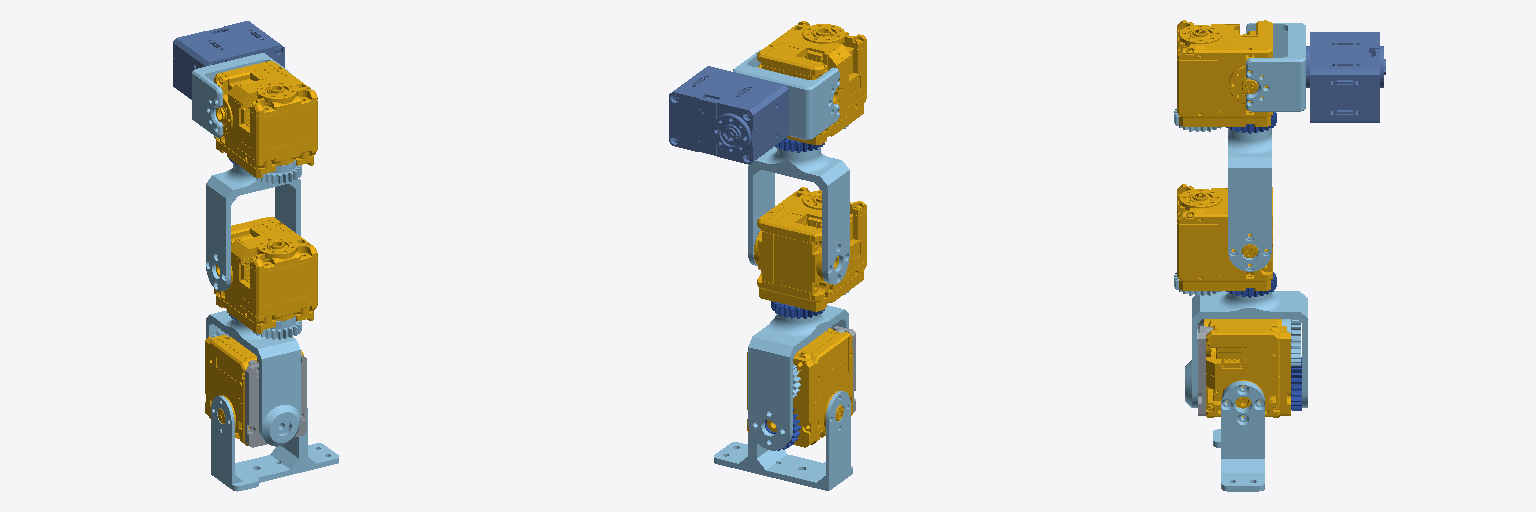
--- What the picture shows (computed from the rendered views, not written in the file) ---
The picture shows the robot from 3 angles, left to right: view 1: azimuth 30°, elevation 25°; view 2: azimuth 150°, elevation 25°; view 3: azimuth 270°, elevation 25°; orthographic projection.
Robot: right_arm — 16 links, 15 joints (10 revolute, 5 fixed); root link xc430; default pose: every joint at zero.
Links seen in each view (by area): view 1: 2xl430_gears, 2xl430_gears_2, elb_yaw_link, gripper_connector, sho_yaw_link, xc430, 2xl430_gears_3, sho_pitch_link, wrist_bearing_plate, spur_1m_24t_drive_2, spur_1m_24t_drive; view 2: xc430, 2xl430_gears_2, elb_yaw_link, sho_yaw_link, 2xl430_gears, gripper_connector, 2xl430_gears_3, sho_pitch_link; view 3: 2xl430_gears, 2xl430_gears_3, xc430, 2xl430_gears_2, sho_yaw_link, gripper_connector, elb_yaw_link, sho_pitch_link, wrist_bearing_plate, spur_1m_24t_drive_3.
Boxes of the visible links, bbox=[...] form: 2xl430_gears: bbox=[214, 61, 317, 177]; 2xl430_gears_2: bbox=[214, 217, 317, 333]; elb_yaw_link: bbox=[206, 310, 300, 446]; gripper_connector: bbox=[211, 395, 338, 491]; sho_yaw_link: bbox=[206, 163, 300, 290]; xc430: bbox=[173, 21, 284, 99]; 2xl430_gears_3: bbox=[205, 335, 303, 445]; sho_pitch_link: bbox=[192, 53, 290, 137]; wrist_bearing_plate: bbox=[245, 354, 306, 447]; spur_1m_24t_drive_2: bbox=[253, 316, 301, 339]; spur_1m_24t_drive: bbox=[253, 160, 301, 183]; xc430: bbox=[669, 66, 788, 164]; 2xl430_gears_2: bbox=[754, 187, 866, 311]; elb_yaw_link: bbox=[748, 305, 848, 450]; sho_yaw_link: bbox=[748, 146, 849, 284]; 2xl430_gears: bbox=[757, 21, 866, 144]; gripper_connector: bbox=[714, 391, 852, 490]; 2xl430_gears_3: bbox=[747, 328, 852, 447]; sho_pitch_link: bbox=[733, 50, 839, 139]; 2xl430_gears: bbox=[1177, 20, 1272, 126]; 2xl430_gears_3: bbox=[1204, 319, 1290, 417]; xc430: bbox=[1306, 32, 1385, 122]; 2xl430_gears_2: bbox=[1177, 184, 1272, 290]; sho_yaw_link: bbox=[1228, 128, 1271, 271]; gripper_connector: bbox=[1213, 381, 1264, 491]; elb_yaw_link: bbox=[1185, 291, 1307, 407]; sho_pitch_link: bbox=[1246, 23, 1305, 111]; wrist_bearing_plate: bbox=[1198, 319, 1212, 415]; spur_1m_24t_drive_3: bbox=[1282, 319, 1300, 365].
Size in the robot's own frame: 0.066 by 0.1029 by 0.2252 metres.
Meshes: 16 distinct files referenced, 15 mesh visuals loaded (15 binary STL); not drawn: 1 (reference not matched to a file when rendering).

The robot description file, URDF, robot "right_arm":
<?xml version="1.0" ?><robot name="right_arm">  
  <link name="xc430">    
    <visual>      
      <origin xyz="0 0 0" rpy="0 -0 0"/>      
      <geometry>        
        <mesh filename="package:///meshes/right_xc430_visual.stl"/>        
      </geometry>      
      <material name="xc430_material">        
        <color rgba="0.3960334863748344314 0.50878377002232877402 0.71126755432153676573 1.0"/>        
      </material>      
    </visual>    
    <collision>      
      <origin xyz="0 0 0" rpy="0 -0 0"/>      
      <geometry>        
        <mesh filename="package:///meshes/right_xc430_collision.stl"/>        
      </geometry>      
    </collision>    
    <inertial>      
      <origin xyz="0.0076499389484204925391 0.0056800345415021621584 -0.01424421865606324486" rpy="0 0 0"/>      
      <mass value="0.065021926915724281848"/>      
      <inertia ixx="1.0685477757330492888e-05" ixy="-2.4991048729880297431e-08" ixz="4.3793050176100700611e-09" iyy="1.6030858372951945059e-05" iyz="-9.5846760479532437472e-09" izz="1.8186829094811067043e-05"/>      
    </inertial>    
  </link>  

  <link name="sho_pitch_link">    
    <visual>      
      <origin xyz="0 0 0" rpy="0 -0 0"/>      
      <geometry>        
        <mesh filename="package:///meshes/right_sho_pitch_link_visual.stl"/>        
      </geometry>      
      <material name="sho_pitch_link_material">        
        <color rgba="0.61568627450980395466 0.81176470588235294379 0.92941176470588238168 1.0"/>        
      </material>      
    </visual>    
    <collision>      
      <origin xyz="0 0 0" rpy="0 -0 0"/>      
      <geometry>        
        <mesh filename="package:///meshes/right_sho_pitch_link_collision.stl"/>        
      </geometry>      
    </collision>    
    <inertial>      
      <origin xyz="5.8254248120052071971e-11 -5.126464256112087765e-05 0.0082440788127094884186" rpy="0 0 0"/>      
      <mass value="0.0054658167229830727923"/>      
      <inertia ixx="7.8001571192438926207e-07" ixy="-1.3620017154980032855e-14" ixz="-5.4561052933656508776e-15" iyy="1.8499441886712505873e-06" iyz="4.7427934912491390431e-09" izz="1.9577243674425458058e-06"/>      
    </inertial>    
  </link>  

  <link name="2xl430_gears">    
    <visual>      
      <origin xyz="0 0 0" rpy="0 -0 0"/>      
      <geometry>        
        <mesh filename="package:///meshes/right_2xl430_gears_visual.stl"/>        
      </geometry>      
      <material name="2xl430_gears_material">        
        <color rgba="0.92986371788500021829 0.70481290401000895596 0.1039417481935485249 1.0"/>        
      </material>      
    </visual>    
    <collision>      
      <origin xyz="0 0 0" rpy="0 -0 0"/>      
      <geometry>        
        <mesh filename="package:///meshes/right_2xl430_gears_collision.stl"/>        
      </geometry>      
    </collision>    
    <inertial>      
      <origin xyz="-0.011690990429498037892 -0.0018640254999328701151 -0.018537112917885786162" rpy="0 0 0"/>      
      <mass value="0.10501969455283197141"/>      
      <inertia ixx="2.3730855574652044346e-05" ixy="6.3698299422666266668e-07" ixz="-2.6196591647647510865e-08" iyy="2.9185546824401046326e-05" iyz="-5.7586555809654022393e-07" izz="3.1247581181373298292e-05"/>      
    </inertial>    
  </link>  

  <link name="spur_1m_24t_drive">    
    <visual>      
      <origin xyz="0 0 0" rpy="0 -0 0"/>      
      <geometry>        
        <mesh filename="package:///meshes/right_spur_1m_24t_drive_visual.stl"/>        
      </geometry>      
      <material name="spur_1m_24t_drive_material">        
        <color rgba="0.61568627450980395466 0.81176470588235294379 0.92941176470588238168 1.0"/>        
      </material>      
    </visual>    
    <collision>      
      <origin xyz="0 0 0" rpy="0 -0 0"/>      
      <geometry>        
        <mesh filename="package:///meshes/right_spur_1m_24t_drive_collision.stl"/>        
      </geometry>      
    </collision>    
    <inertial>      
      <origin xyz="-7.7519087863383936372e-15 -1.2066399166885885543e-16 0.004794911617840143421" rpy="0 0 0"/>      
      <mass value="0.0028390468118397902894"/>      
      <inertia ixx="1.2437980613262772114e-07" ixy="1.419737221362293343e-15" ixz="5.7551871861799213809e-36" iyy="1.2437980537166470334e-07" iyz="-5.7405905927349539414e-36" izz="2.1149940431738196475e-07"/>      
    </inertial>    
  </link>  

  <joint name="right_sho_yaw_drive" type="revolute">    
    <origin xyz="-0.024000000716145282464 -0.019000000152450020885 -0.01900000015244465712" rpy="1.5707963267947440134 8.8357678040591617298e-14 1.3333206406915990796e-13"/>    
    <parent link="2xl430_gears"/>    
    <child link="spur_1m_24t_drive"/>    
    <axis xyz="0 0 1"/>    
    <limit effort="1" velocity="20" lower="-3.141592653589793116" upper="3.141592653589793116"/>    
    <joint_properties friction="0.0"/>    
  </joint>  

  <link name="spur_1m_24t_driven">    
    <visual>      
      <origin xyz="0 0 0" rpy="0 -0 0"/>      
      <geometry>        
        <mesh filename="package:///meshes/right_spur_1m_24t_driven_visual.stl"/>        
      </geometry>      
      <material name="spur_1m_24t_driven_material">        
        <color rgba="0.23137254901960788156 0.38039215686274507888 0.7058823529411765163 1.0"/>        
      </material>      
    </visual>    
    <collision>      
      <origin xyz="0 0 0" rpy="0 -0 0"/>      
      <geometry>        
        <mesh filename="package:///meshes/right_spur_1m_24t_driven_collision.stl"/>        
      </geometry>      
    </collision>    
    <inertial>      
      <origin xyz="2.1808092620728437084e-18 -5.7993764787103834268e-15 -0.00096866348640038332785" rpy="0 0 0"/>      
      <mass value="0.0019107037020329885237"/>      
      <inertia ixx="8.5107987555388190322e-08" ixy="1.7091846252727555501e-36" ixz="6.3716770318172425148e-38" iyy="8.5107987555388057973e-08" iyz="0" izz="1.61541204276871012e-07"/>      
    </inertial>    
  </link>  

  <link name="sho_yaw_link">    
    <visual>      
      <origin xyz="0 0 0" rpy="0 -0 0"/>      
      <geometry>        
        <mesh filename="package:///meshes/right_sho_yaw_link_visual.stl"/>        
      </geometry>      
      <material name="sho_yaw_link_material">        
        <color rgba="0.61568627450980395466 0.81176470588235294379 0.92941176470588238168 1.0"/>        
      </material>      
    </visual>    
    <collision>      
      <origin xyz="0 0 0" rpy="0 -0 0"/>      
      <geometry>        
        <mesh filename="package:///meshes/right_sho_yaw_link_collision.stl"/>        
      </geometry>      
    </collision>    
    <inertial>      
      <origin xyz="-1.2954272486096673629e-18 5.5604836372706037839e-18 -0.024214576156328410095" rpy="0 0 0"/>      
      <mass value="0.012515007486099719372"/>      
      <inertia ixx="7.8103015795623802274e-06" ixy="3.1069782961625653339e-13" ixz="-1.5180179291766508191e-36" iyy="4.8995994669684958124e-06" iyz="0" izz="3.8486326781559904804e-06"/>      
    </inertial>    
  </link>  

  <link name="2xl430_gears_2">    
    <visual>      
      <origin xyz="0 0 0" rpy="0 -0 0"/>      
      <geometry>        
        <mesh filename="package:///meshes/right_2xl430_gears_2_visual.stl"/>        
      </geometry>      
      <material name="2xl430_gears_2_material">        
        <color rgba="0.92986371788500021829 0.70481290401000895596 0.1039417481935485249 1.0"/>        
      </material>      
    </visual>    
    <collision>      
      <origin xyz="0 0 0" rpy="0 -0 0"/>      
      <geometry>        
        <mesh filename="package:///meshes/right_2xl430_gears_2_collision.stl"/>        
      </geometry>      
    </collision>    
    <inertial>      
      <origin xyz="-0.011690990429495876426 -0.0018640254999284630501 -0.018537112917888672742" rpy="0 0 0"/>      
      <mass value="0.10501969455283197141"/>      
      <inertia ixx="2.3730855574650113111e-05" ixy="6.3698299422697755118e-07" ixz="-2.619659164846839167e-08" iyy="2.9185546824400958234e-05" iyz="-5.7586555809717443985e-07" izz="3.1247581181370804627e-05"/>      
    </inertial>    
  </link>  

  <link name="spur_1m_24t_drive_2">    
    <visual>      
      <origin xyz="0 0 0" rpy="0 -0 0"/>      
      <geometry>        
        <mesh filename="package:///meshes/right_spur_1m_24t_drive_2_visual.stl"/>        
      </geometry>      
      <material name="spur_1m_24t_drive_2_material">        
        <color rgba="0.61568627450980395466 0.81176470588235294379 0.92941176470588238168 1.0"/>        
      </material>      
    </visual>    
    <collision>      
      <origin xyz="0 0 0" rpy="0 -0 0"/>      
      <geometry>        
        <mesh filename="package:///meshes/right_spur_1m_24t_drive_2_collision.stl"/>        
      </geometry>      
    </collision>    
    <inertial>      
      <origin xyz="-7.7519087863383936372e-15 -1.2153135340684725898e-16 0.0047949116178401512273" rpy="0 0 0"/>      
      <mass value="0.0028390468118397902894"/>      
      <inertia ixx="1.2437980613262772114e-07" ixy="1.419737219559865687e-15" ixz="0" iyy="1.2437980537166467687e-07" iyz="0" izz="2.1149940431738185887e-07"/>      
    </inertial>    
  </link>  

  <joint name="right_elbow_yaw_drive" type="revolute">    
    <origin xyz="-0.024000000716139280321 -0.01900000015244283913 -0.019000000152453226654" rpy="1.5707963267950391106 8.1911722377649949147e-14 -2.5011968398485122495e-13"/>    
    <parent link="2xl430_gears_2"/>    
    <child link="spur_1m_24t_drive_2"/>    
    <axis xyz="0 0 1"/>    
    <limit effort="1" velocity="20" lower="-3.141592653589793116" upper="3.141592653589793116"/>    
    <joint_properties friction="0.0"/>    
  </joint>  

  <link name="spur_1m_24t_driven_2">    
    <visual>      
      <origin xyz="0 0 0" rpy="0 -0 0"/>      
      <geometry>        
        <mesh filename="package:///meshes/right_spur_1m_24t_driven_2_visual.stl"/>        
      </geometry>      
      <material name="spur_1m_24t_driven_2_material">        
        <color rgba="0.23137254901960788156 0.38039215686274507888 0.7058823529411765163 1.0"/>        
      </material>      
    </visual>    
    <collision>      
      <origin xyz="0 0 0" rpy="0 -0 0"/>      
      <geometry>        
        <mesh filename="package:///meshes/right_spur_1m_24t_driven_2_collision.stl"/>        
      </geometry>      
    </collision>    
    <inertial>      
      <origin xyz="-4.7580846418343935286e-18 -5.7985091169723950233e-15 -0.00096866348640039373619" rpy="0 0 0"/>      
      <mass value="0.0019107037020329885237"/>      
      <inertia ixx="8.5107987555388190322e-08" ixy="4.1354498048527223053e-38" ixz="-3.3569182052241067714e-38" iyy="8.5107987555388057973e-08" iyz="2.4995911158291805188e-67" izz="1.61541204276871012e-07"/>      
    </inertial>    
  </link>  

  <link name="elb_yaw_link">    
    <visual>      
      <origin xyz="0 0 0" rpy="0 -0 0"/>      
      <geometry>        
        <mesh filename="package:///meshes/right_elb_yaw_link_visual.stl"/>        
      </geometry>      
      <material name="elb_yaw_link_material">        
        <color rgba="0.61568627450980406568 0.81176470588235294379 0.92941176470588238168 1.0"/>        
      </material>      
    </visual>    
    <collision>      
      <origin xyz="0 0 0" rpy="0 -0 0"/>      
      <geometry>        
        <mesh filename="package:///meshes/right_elb_yaw_link_collision.stl"/>        
      </geometry>      
    </collision>    
    <inertial>      
      <origin xyz="5.2870889172994923869e-08 0.001987355818274245782 -0.023365661199828729327" rpy="0 0 0"/>      
      <mass value="0.014606428020591945977"/>      
      <inertia ixx="1.17667756487469936e-05" ixy="1.4106312007994768316e-12" ixz="-9.3353217587898966973e-12" iyy="5.5393998892419725165e-06" iyz="8.8305528697668221258e-07" izz="7.4785865281022784925e-06"/>      
    </inertial>    
  </link>  

  <link name="spur_1m_24t_driven_3">    
    <visual>      
      <origin xyz="0 0 0" rpy="0 -0 0"/>      
      <geometry>        
        <mesh filename="package:///meshes/right_spur_1m_24t_driven_3_visual.stl"/>        
      </geometry>      
      <material name="spur_1m_24t_driven_3_material">        
        <color rgba="0.23137254901960788156 0.38039215686274507888 0.7058823529411765163 1.0"/>        
      </material>      
    </visual>    
    <collision>      
      <origin xyz="0 0 0" rpy="0 -0 0"/>      
      <geometry>        
        <mesh filename="package:///meshes/right_spur_1m_24t_driven_3_collision.stl"/>        
      </geometry>      
    </collision>    
    <inertial>      
      <origin xyz="2.9936384877701756834e-17 -5.7993764787103834268e-15 -0.002568663486400384055" rpy="0 0 0"/>      
      <mass value="0.0019107037020329885237"/>      
      <inertia ixx="8.5107987555388190322e-08" ixy="3.3988796829323495399e-37" ixz="5.9570228602002876148e-38" iyy="8.5107987555388057973e-08" iyz="1.8709261356730929059e-36" izz="1.61541204276871012e-07"/>      
    </inertial>    
  </link>  

  <link name="2xl430_gears_3">    
    <visual>      
      <origin xyz="0 0 0" rpy="0 -0 0"/>      
      <geometry>        
        <mesh filename="package:///meshes/right_2xl430_gears_3_visual.stl"/>        
      </geometry>      
      <material name="2xl430_gears_3_material">        
        <color rgba="0.92986371788500021829 0.70481290401000895596 0.1039417481935485249 1.0"/>        
      </material>      
    </visual>    
    <collision>      
      <origin xyz="0 0 0" rpy="0 -0 0"/>      
      <geometry>        
        <mesh filename="package:///meshes/right_2xl430_gears_3_collision.stl"/>        
      </geometry>      
    </collision>    
    <inertial>      
      <origin xyz="0.00046288708211326089464 0.011690990071428479513 -0.025135974652517042299" rpy="0 0 0"/>      
      <mass value="0.10501969455283197141"/>      
      <inertia ixx="3.1247581181372647771e-05" ixy="2.6196591648307667168e-08" ixz="5.7586555809648357861e-07" iyy="2.3730855574651139715e-05" iyz="6.369829942252864499e-07" izz="2.9185546824400744782e-05"/>      
    </inertial>    
  </link>  

  <link name="spur_1m_24t_drive_3">    
    <visual>      
      <origin xyz="0 0 0" rpy="0 -0 0"/>      
      <geometry>        
        <mesh filename="package:///meshes/right_spur_1m_24t_drive_3_visual.stl"/>        
      </geometry>      
      <material name="spur_1m_24t_drive_3_material">        
        <color rgba="0.61568627450980395466 0.81176470588235294379 0.92941176470588238168 1.0"/>        
      </material>      
    </visual>    
    <collision>      
      <origin xyz="0 0 0" rpy="0 -0 0"/>      
      <geometry>        
        <mesh filename="package:///meshes/right_spur_1m_24t_drive_3_collision.stl"/>        
      </geometry>      
    </collision>    
    <inertial>      
      <origin xyz="-7.7519087863383920595e-15 -1.2153135340684725898e-16 0.0047949116178401390842" rpy="0 0 0"/>      
      <mass value="0.0028390468118397902894"/>      
      <inertia ixx="1.2437980613262772114e-07" ixy="1.4197372177857447269e-15" ixz="-1.0607281309556152377e-37" iyy="1.243798053716646504e-07" iyz="2.059668263515456912e-37" izz="2.1149940431738185887e-07"/>      
    </inertial>    
  </link>  

  <joint name="right_wrist_pitch_drive" type="revolute">    
    <origin xyz="-1.5244811749776099319e-10 0.024000000358072620665 -0.0079999999999997017941" rpy="1.5207668029396791614e-15 3.0001588934587613545e-16 -1.5707963267949434094"/>    
    <parent link="2xl430_gears_3"/>    
    <child link="spur_1m_24t_drive_3"/>    
    <axis xyz="0 0 1"/>    
    <limit effort="1" velocity="20" lower="-1.570796326794896558" upper="1.570796326794896558"/>    
    <joint_properties friction="0.0"/>    
  </joint>  

  <link name="wrist_bearing_plate">    
    <visual>      
      <origin xyz="0 0 0" rpy="0 -0 0"/>      
      <geometry>        
        <mesh filename="package:///meshes/right_wrist_bearing_plate_visual.stl"/>        
      </geometry>      
      <material name="wrist_bearing_plate_material">        
        <color rgba="0.64524122402591754799 0.68440476750126189032 0.7077786319257823866 1.0"/>        
      </material>      
    </visual>    
    <collision>      
      <origin xyz="0 0 0" rpy="0 -0 0"/>      
      <geometry>        
        <mesh filename="package:///meshes/right_wrist_bearing_plate_collision.stl"/>        
      </geometry>      
    </collision>    
    <inertial>      
      <origin xyz="-0.0077108207619254898885 -0.015499999999999984276 -0.0018560607799430997762" rpy="0 0 0"/>      
      <mass value="0.0056496574836909499093"/>      
      <inertia ixx="5.9171079900928536951e-07" ixy="7.7431732982876658391e-23" ixz="1.8301204254972843733e-08" iyy="8.216220249489040691e-07" iyz="1.4382794928935550359e-23" izz="1.3935387964192954933e-06"/>      
    </inertial>    
  </link>  

  <joint name="right_wrist_roll_fixed" type="fixed">    
    <origin xyz="0.015499999999999304265 5.6066262743570405291e-15 -0.045000000000002482459" rpy="-2.775557577058390956e-16 1.2045919817182471361e-13 -1.5707963267948994446"/>    
    <parent link="2xl430_gears_3"/>    
    <child link="wrist_bearing_plate"/>    
    <axis xyz="0 0 1"/>    
    <limit effort="1" velocity="20"/>    
    <joint_properties friction="0.0"/>    
  </joint>  

  <link name="gripper_connector">    
    <visual>      
      <origin xyz="0 0 0" rpy="0 -0 0"/>      
      <geometry>        
        <mesh filename="package:///meshes/right_gripper_connector_visual.stl"/>        
      </geometry>      
      <material name="gripper_connector_material">        
        <color rgba="0.61568627450980395466 0.81176470588235283277 0.92941176470588238168 1.0"/>        
      </material>      
    </visual>    
    <collision>      
      <origin xyz="0 0 0" rpy="0 -0 0"/>      
      <geometry>        
        <mesh filename="package:///meshes/right_gripper_connector_collision.stl"/>        
      </geometry>      
    </collision>    
    <inertial>      
      <origin xyz="-0.00020299682521053767181 0.023971521766976099793 -0.029403013850151978742" rpy="0 0 0"/>      
      <mass value="0.010749847783550764077"/>      
      <inertia ixx="5.6975779571583526668e-06" ixy="2.5156189499996462569e-08" ixz="5.1723788070378663015e-08" iyy="4.1113818885763098678e-06" iyz="2.0765009312234066418e-08" izz="2.4319826940967949828e-06"/>      
    </inertial>    
  </link>  

  <link name="gripper">    
    <visual>      
      <origin xyz="0 0 0" rpy="0 -0 0"/>      
      <geometry>        
        <mesh filename="package:///meshes/right_gripper_visual.stl"/>        
      </geometry>      
      <material name="gripper_material">        
        <color rgba="0.6457630783199683755 0.73322359874460429907 0.76035515688353960684 1.0"/>        
      </material>      
    </visual>    
    <collision>      
      <origin xyz="0 0 0" rpy="0 -0 0"/>      
      <geometry>        
        <mesh filename="package:///meshes/right_gripper_collision.stl"/>        
      </geometry>      
    </collision>    
    <inertial>      
      <origin xyz="0.005154178919315250372 0.0027762365359454387048 -0.0064249550239257871218" rpy="0 0 0"/>      
      <mass value="0.08131732839378616462"/>      
      <inertia ixx="4.330452038058195906e-05" ixy="4.8646698778625252669e-06" ixz="1.805038721517711957e-05" iyy="0.00011082035907674447981" iyz="-4.2102691126507312902e-06" izz="9.1484178053677847197e-05"/>      
    </inertial>    
  </link>  

  <joint name="right_gripper" type="fixed">    
    <origin xyz="0 0.036999999999999977351 -0.0019999999999999948375" rpy="1.570796326794896336 1.5707963267948956698 0"/>    
    <parent link="gripper_connector"/>    
    <child link="gripper"/>    
    <axis xyz="0 0 1"/>    
    <limit effort="1" velocity="20"/>    
    <joint_properties friction="0.0"/>    
  </joint>  

  <joint name="right_wrist_roll" type="revolute">    
    <origin xyz="0.01899999999999842093 -3.580677698789003216e-10 -0.027000000152450482488" rpy="-3.1415926535897886751 -1.570796326794761999 0"/>    
    <parent link="2xl430_gears_3"/>    
    <child link="gripper_connector"/>    
    <axis xyz="0 0 1"/>    
    <limit effort="1" velocity="20" lower="-1.570796326794896558" upper="1.570796326794896558"/>    
    <joint_properties friction="0.0"/>    
  </joint>  

  <joint name="right_wrist_pitch_driven" type="revolute">    
    <origin xyz="0 0 -0.001599999999999995523" rpy="-1.4714712539698267381e-15 -1.2375585252992944258e-15 1.5707963267948918951"/>    
    <parent link="spur_1m_24t_driven_3"/>    
    <child link="2xl430_gears_3"/>    
    <axis xyz="0 0 1"/>    
    <limit effort="1" velocity="20" lower="-1.570796326794896558" upper="1.570796326794896558"/>    
    <joint_properties friction="0.0"/>    
  </joint>  

  <joint name="right_wrist_pitch_fixed" type="fixed">    
    <origin xyz="8.6736173798840354721e-19 -0.025300000000000003042 -0.051999999999999962919" rpy="1.5707963267948952257 1.5707963267948956698 0"/>    
    <parent link="elb_yaw_link"/>    
    <child link="spur_1m_24t_driven_3"/>    
    <axis xyz="0 0 1"/>    
    <limit effort="1" velocity="20"/>    
    <joint_properties friction="0.0"/>    
  </joint>  

  <joint name="right_elbow_yaw_fixed" type="fixed">    
    <origin xyz="-1.3877787807814456755e-17 0 0.0015999999999999903189" rpy="-3.1415926535897926719 2.2204460507596263527e-16 -1.57079632679489678"/>    
    <parent link="spur_1m_24t_driven_2"/>    
    <child link="elb_yaw_link"/>    
    <axis xyz="0 0 1"/>    
    <limit effort="1" velocity="20"/>    
    <joint_properties friction="0.0"/>    
  </joint>  

  <joint name="right_elbow_yaw_driven" type="revolute">    
    <origin xyz="-3.5807009440835813052e-10 -0.027000000152443429102 -0.019000000000003989392" rpy="1.5707963267950053599 1.6081226497803247244e-16 -1.0092137381271122757e-15"/>    
    <parent link="2xl430_gears_2"/>    
    <child link="spur_1m_24t_driven_2"/>    
    <axis xyz="0 0 1"/>    
    <limit effort="1" velocity="20" lower="-3.141592653589793116" upper="3.141592653589793116"/>    
    <joint_properties friction="0.0"/>    
  </joint>  

  <joint name="right_elbow_roll" type="revolute">    
    <origin xyz="3.3306690738754696213e-16 -0.019000000000000707295 -0.059000000000000260569" rpy="1.570796326794896558 -1.836970068011247822e-16 -1.5987211554602285737e-14"/>    
    <parent link="sho_yaw_link"/>    
    <child link="2xl430_gears_2"/>    
    <axis xyz="0 0 1"/>    
    <limit effort="1" velocity="20" lower="-1.570796326794896558" upper="1.570796326794896558"/>    
    <joint_properties friction="0.0"/>    
  </joint>  

  <joint name="right_sho_yaw_fixed" type="fixed">    
    <origin xyz="0 0 0.0016000000000000111355" rpy="-3.141592653589793116 1.3219339774684726213e-23 2.5779071340599606913e-30"/>    
    <parent link="spur_1m_24t_driven"/>    
    <child link="sho_yaw_link"/>    
    <axis xyz="0 0 1"/>    
    <limit effort="1" velocity="20"/>    
    <joint_properties friction="0.0"/>    
  </joint>  

  <joint name="right_sho_yaw_driven" type="revolute">    
    <origin xyz="-3.5807402182230774201e-10 -0.027000000152449667168 -0.019000000000000287492" rpy="1.5707963267948759079 -9.2597924056132978316e-28 -4.4675366514249437376e-14"/>    
    <parent link="2xl430_gears"/>    
    <child link="spur_1m_24t_driven"/>    
    <axis xyz="0 0 1"/>    
    <limit effort="1" velocity="20" lower="-3.141592653589793116" upper="3.141592653589793116"/>    
    <joint_properties friction="0.0"/>    
  </joint>  

  <joint name="right_sho_roll" type="revolute">    
    <origin xyz="-0.018999999999999999528 0.0010000000000000026229 0.027000000000000003164" rpy="-3.141592653589793116 1.570796326794896558 0"/>    
    <parent link="sho_pitch_link"/>    
    <child link="2xl430_gears"/>    
    <axis xyz="0 0 1"/>    
    <limit effort="1" velocity="20" lower="-1.570796326794896558" upper="1.570796326794896558"/>    
    <joint_properties friction="0.0"/>    
  </joint>  

  <joint name="right_sho_pitch" type="revolute">    
    <origin xyz="-0.0039999999999983789842 -0.012999999999999045305 -0.014250000000000390826" rpy="-1.5707963267949442976 1.6903145549952781317e-14 -3.1415926535895994931"/>    
    <parent link="xc430"/>    
    <child link="sho_pitch_link"/>    
    <axis xyz="0 0 1"/>    
    <limit effort="1" velocity="20" lower="-1.570796326794896558" upper="1.570796326794896558"/>    
    <joint_properties friction="0.0"/>    
  </joint>  


</robot>
